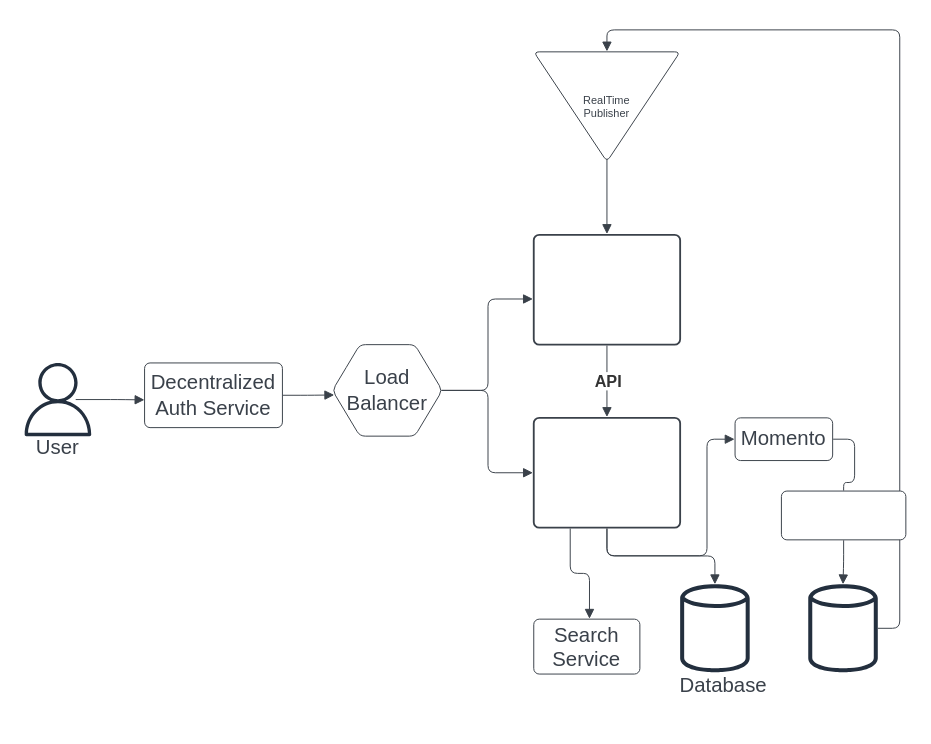
This 931x744 diagram has some shape labels left out. The centre of each missing label's shape, as x and y in pixels:
"Backend" goes at point 606,472.
"Frontend" goes at point 606,289.
"Messaging Database" goes at point 842,627.
"Timeline Service" goes at point 843,515.
